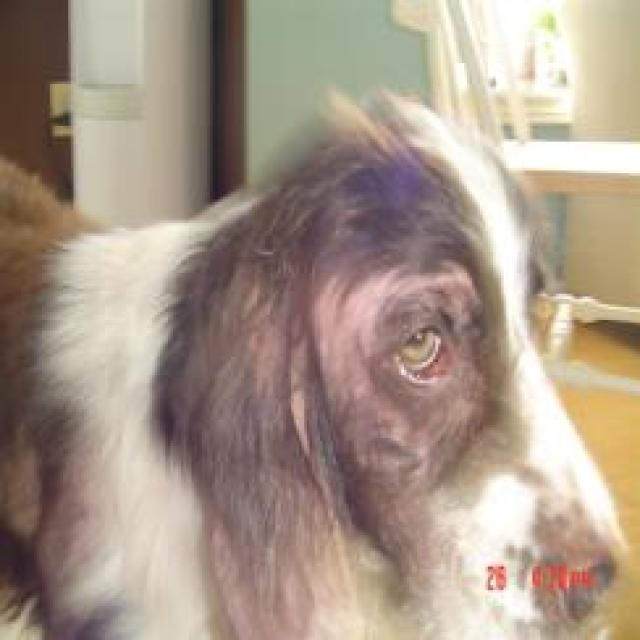allergic dermatitis: (311, 279, 387, 464), (378, 389, 478, 483), (375, 253, 477, 315)
